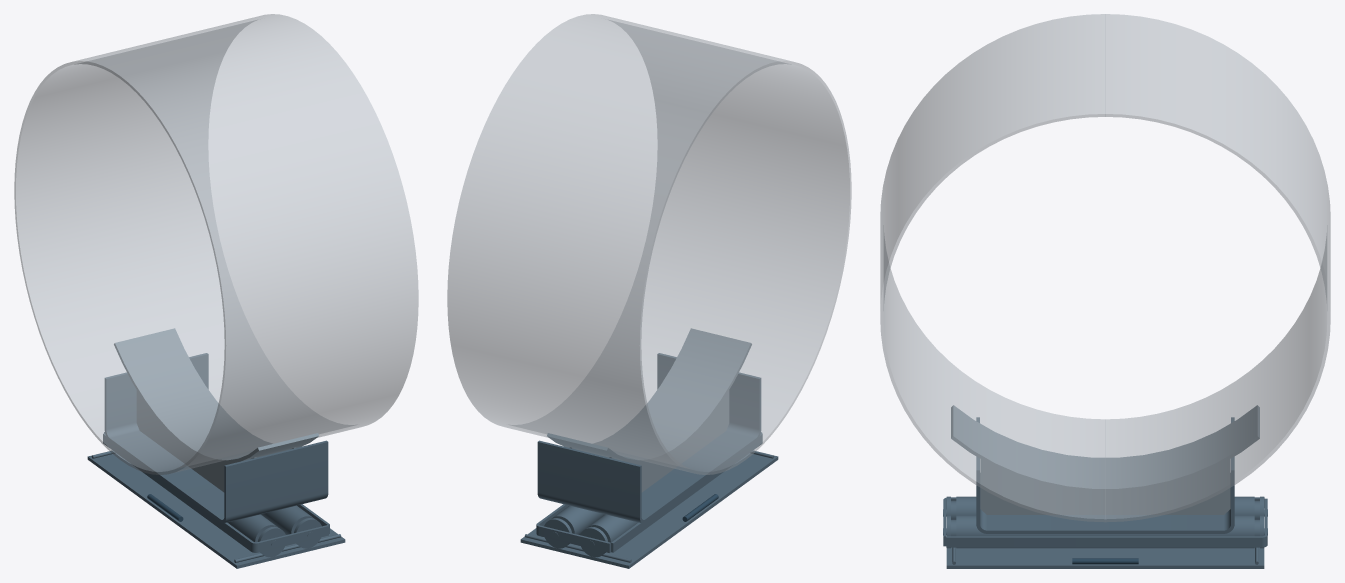
The model's file is TS-630.00.000-08-opora-dn1220-hod200.glb.
The picture shows the model from 3 angles, left to right: view 1: azimuth 30°, elevation 25°; view 2: azimuth 150°, elevation 25°; view 3: azimuth 270°, elevation 25°; orthographic projection. The views are drawn at different scales.
Visible parts, largest first — view 1: truba, o624_skoba_9, o624_podushka_13, plita_osnovanie_0, obojma_ugolnik_7, o624_rebro3_10, obojma_katok_5, obojma_katok_6; view 2: truba, o624_skoba_9, o624_podushka_13, plita_osnovanie_0, o624_rebro3_10, obojma_ugolnik_7, obojma_katok_5, obojma_katok_6, obojma_ugolnik_8; view 3: truba, o624_podushka_13, o624_rebro3_11, plita_osnovanie_0, o624_skoba_9, obojma_ugolnik_8, obojma_katok_5, obojma_katok_6.
Part boxes in pixels (left/top/right/bottom): truba: left=14, top=14, right=418, bottom=474; o624_skoba_9: left=104, top=353, right=328, bottom=523; o624_podushka_13: left=114, top=328, right=318, bottom=463; plita_osnovanie_0: left=87, top=453, right=345, bottom=568; obojma_ugolnik_7: left=103, top=433, right=328, bottom=552; o624_rebro3_10: left=136, top=390, right=256, bottom=492; obojma_katok_5: left=261, top=505, right=321, bottom=548; obojma_katok_6: left=227, top=514, right=285, bottom=557; truba: left=447, top=14, right=851, bottom=474; o624_skoba_9: left=537, top=353, right=761, bottom=523; o624_podushka_13: left=547, top=328, right=751, bottom=463; plita_osnovanie_0: left=520, top=453, right=778, bottom=568; o624_rebro3_10: left=609, top=390, right=729, bottom=492; obojma_ugolnik_7: left=611, top=432, right=762, bottom=552; obojma_katok_5: left=544, top=505, right=604, bottom=548; obojma_katok_6: left=580, top=514, right=638, bottom=557; obojma_ugolnik_8: left=536, top=504, right=610, bottom=552; truba: left=880, top=14, right=1330, bottom=522; o624_podushka_13: left=951, top=405, right=1259, bottom=492; o624_rebro3_11: left=980, top=459, right=1230, bottom=514; plita_osnovanie_0: left=946, top=547, right=1264, bottom=568; o624_skoba_9: left=976, top=417, right=1234, bottom=533; obojma_ugolnik_8: left=946, top=498, right=1267, bottom=547; obojma_katok_5: left=943, top=515, right=1267, bottom=548; obojma_katok_6: left=943, top=496, right=1267, bottom=519.
Bounding box in the file's own units: 640 × 1425 × 1220.
